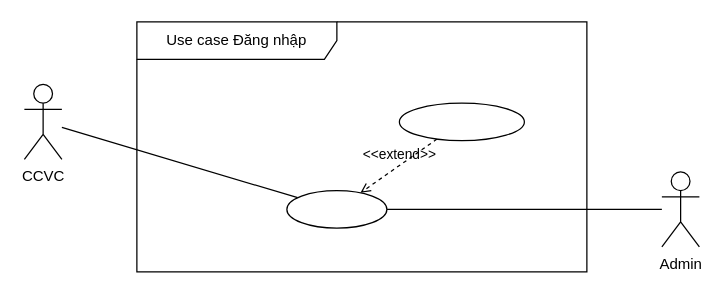
The diagram is 723 pixels wide and 295 high, and some of its shapes have lost their labels. The shapes that lost their labels are listed below. From the top down, each one's centre as x and y in pixels, then its label:
the point at 461,121: Quên mật khẩu
the point at 336,208: Đăng nhập
